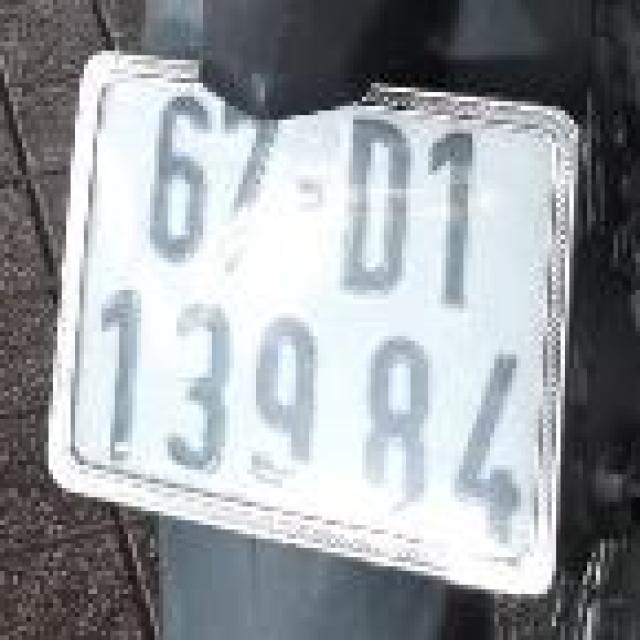1: (84, 276, 159, 474), (417, 122, 483, 320)
3: (166, 297, 240, 477)
4: (450, 352, 534, 555)
6: (141, 90, 212, 274)
7: (214, 85, 285, 279)
8: (351, 327, 439, 529)
9: (252, 299, 326, 493)
D: (340, 108, 415, 297)
